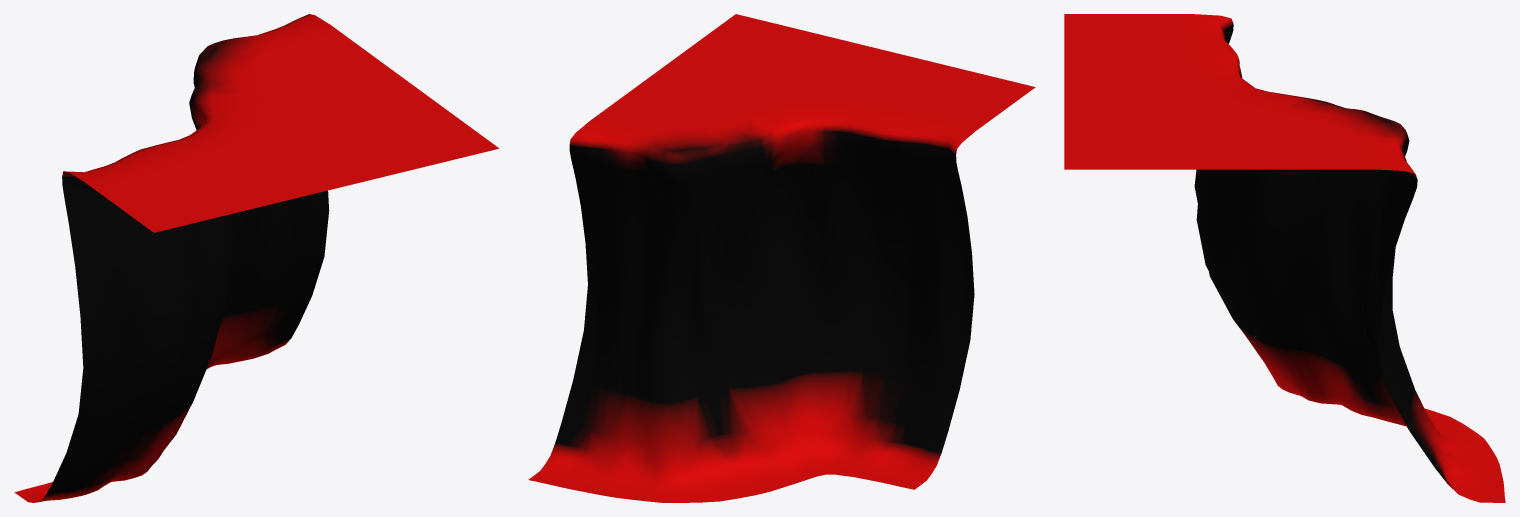
Rendered from GroundCliff05A 2M Foreground.fbx.
3 views of the same model, side by side, from view 1: azimuth 30°, elevation 25°; view 2: azimuth 150°, elevation 25°; view 3: azimuth 270°, elevation 25° (orthographic). The views are drawn at different scales.
Parts seen in each view (by area): view 1: GroundCliff05A 2M Foreground; view 2: GroundCliff05A 2M Foreground; view 3: GroundCliff05A 2M Foreground.
Part boxes in pixels (left/top/right/bottom): GroundCliff05A 2M Foreground: left=14, top=14, right=499, bottom=502; GroundCliff05A 2M Foreground: left=528, top=14, right=1035, bottom=502; GroundCliff05A 2M Foreground: left=1064, top=14, right=1505, bottom=502.
Bounding box in the file's own units: 2 × 2 × 2.4.
